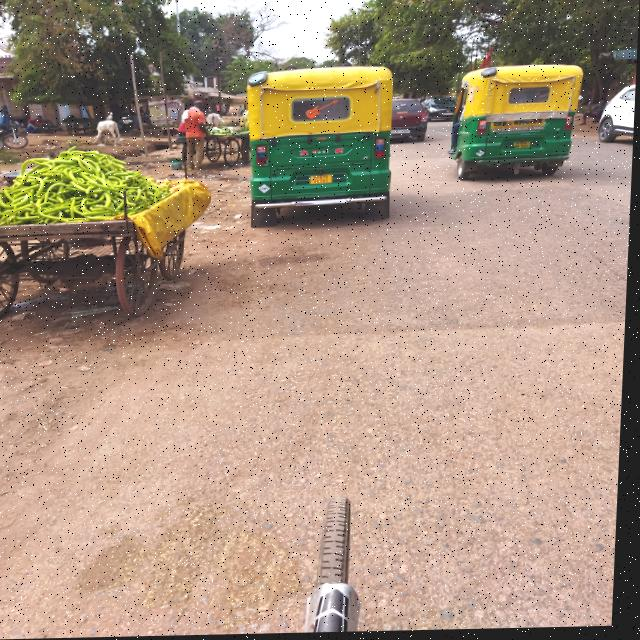plate: (310, 176, 335, 186), (515, 143, 531, 152), (393, 131, 412, 136), (443, 114, 455, 118)
